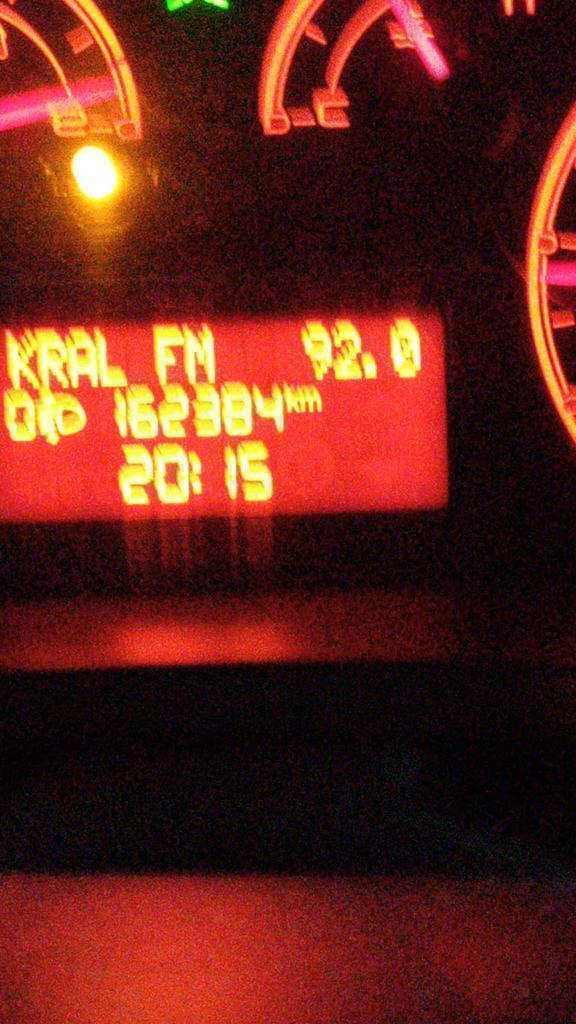,: (360, 350, 378, 382)
0: (152, 443, 189, 504), (388, 317, 421, 379), (2, 391, 36, 441)
1: (222, 445, 237, 500), (112, 388, 128, 439)
2: (118, 444, 152, 505), (332, 320, 362, 381), (158, 386, 189, 439)
3: (191, 386, 221, 438)
4: (253, 384, 285, 432)
5: (237, 441, 274, 501)
6: (127, 386, 157, 439)
8: (222, 380, 252, 436)
9: (300, 321, 331, 381)
X: (93, 326, 129, 387), (182, 324, 217, 385), (36, 328, 69, 390), (152, 323, 184, 386), (5, 327, 36, 390), (69, 328, 98, 388), (188, 451, 204, 495), (300, 386, 323, 414), (283, 384, 301, 414)
odometer: (0, 309, 451, 527)
